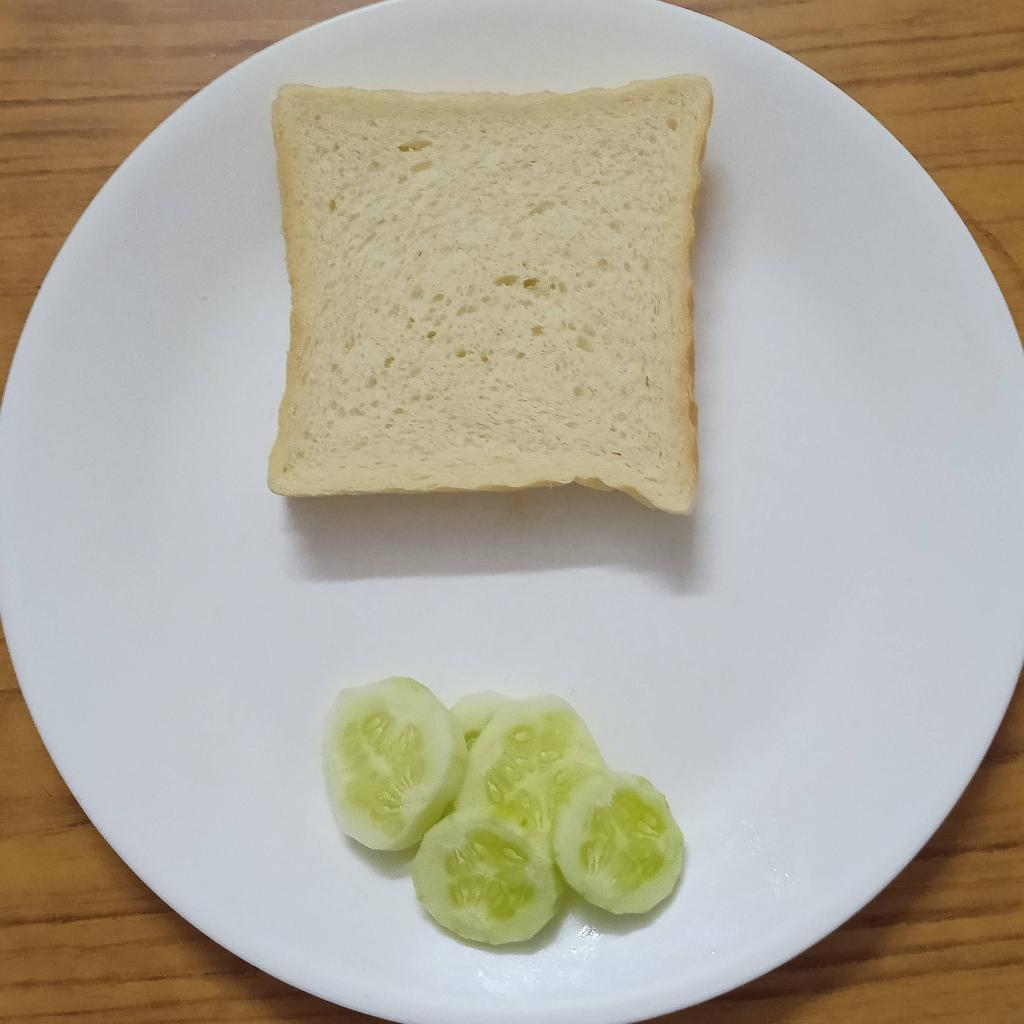bread: (260, 75, 722, 523)
cucumber: (319, 680, 687, 945)
